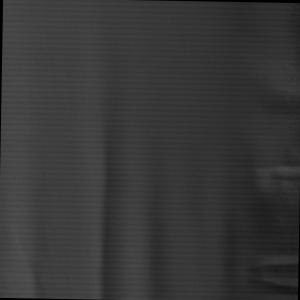Wrinkle: (5, 31, 177, 300), (213, 2, 300, 300)
